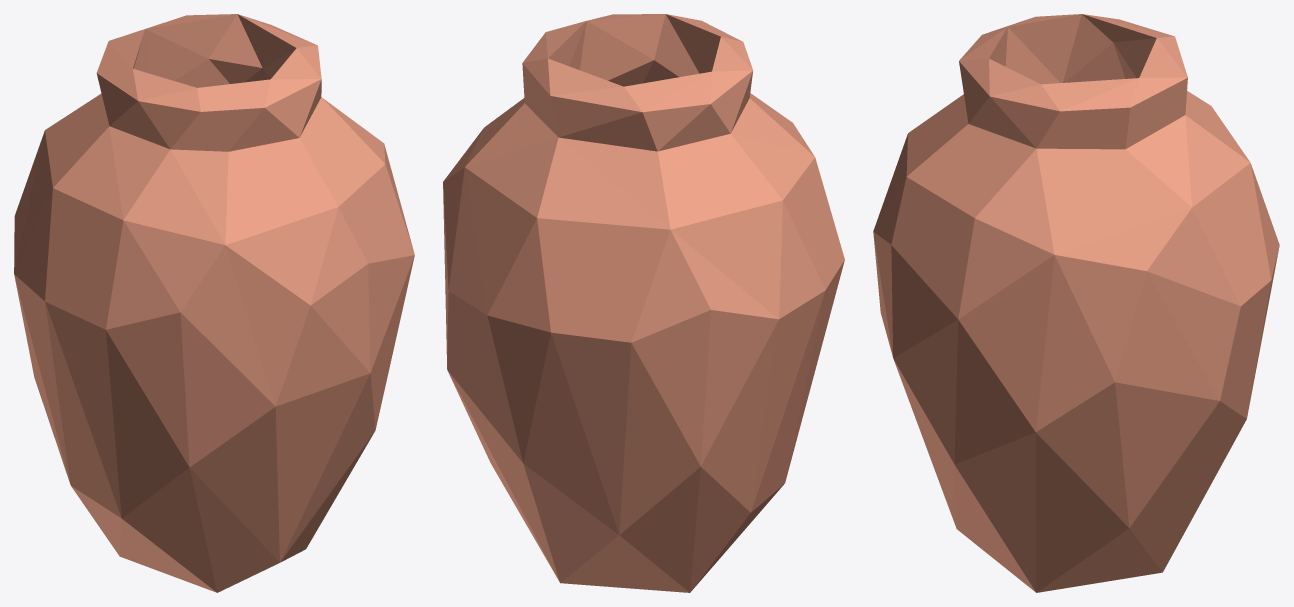
File: Vase2.fbx
3 renders of one model, left to right at view 1: azimuth 30°, elevation 25°; view 2: azimuth 150°, elevation 25°; view 3: azimuth 270°, elevation 25°, orthographic.
Parts seen in each view (by area): view 1: Vase2; view 2: Vase2; view 3: Vase2.
Boxes of the visible parts, x1=… form: Vase2: x1=14, y1=14, x2=414, y2=592; Vase2: x1=443, y1=14, x2=844, y2=592; Vase2: x1=873, y1=14, x2=1279, y2=592.
Size of the model in its own units: 0.6288 by 0.8743 by 0.6353.
1 material, 1 textured.
